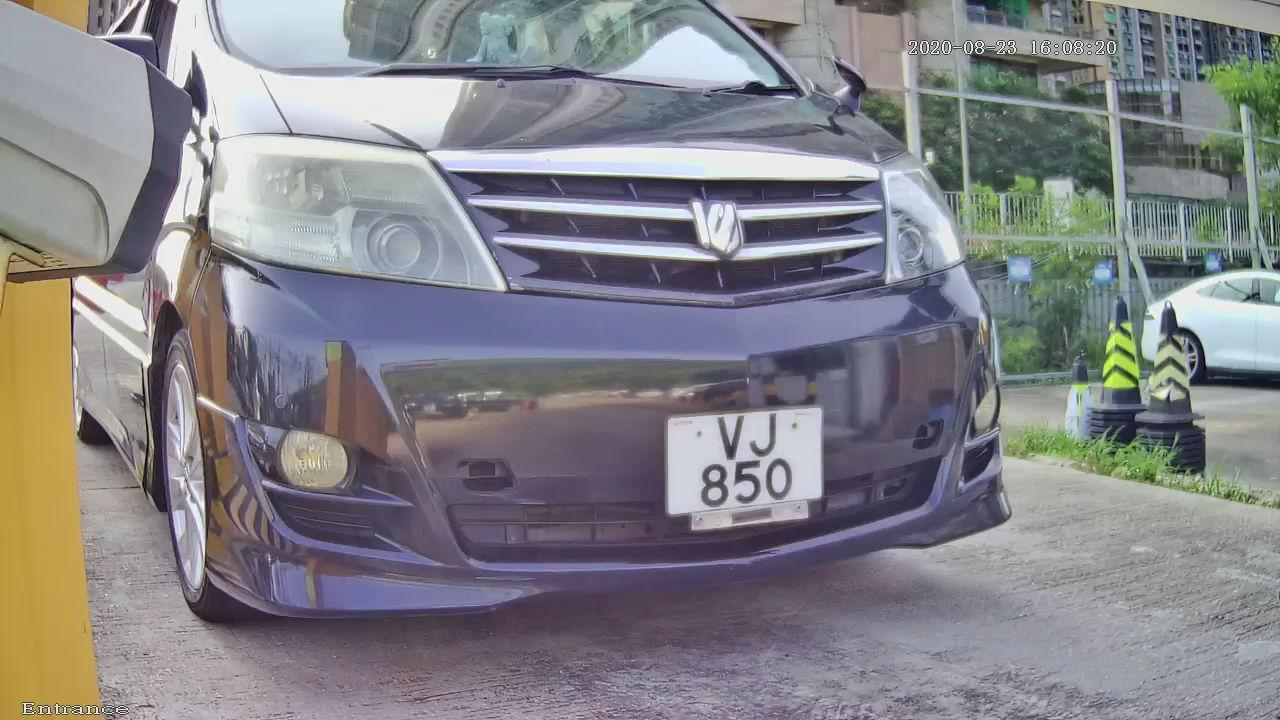Car: (81, 13, 1052, 656)
License Plate: (652, 389, 835, 544)
